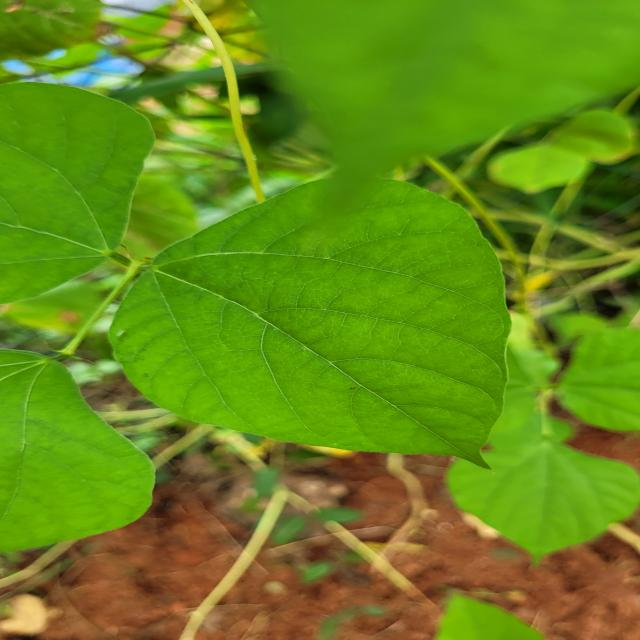Dolicos bean_healthy: (114, 175, 508, 469), (249, 0, 640, 171), (4, 74, 150, 314), (0, 336, 161, 550), (449, 440, 640, 553)
